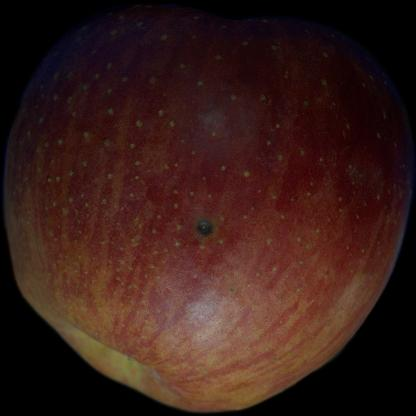defect: (152, 186, 223, 256)
